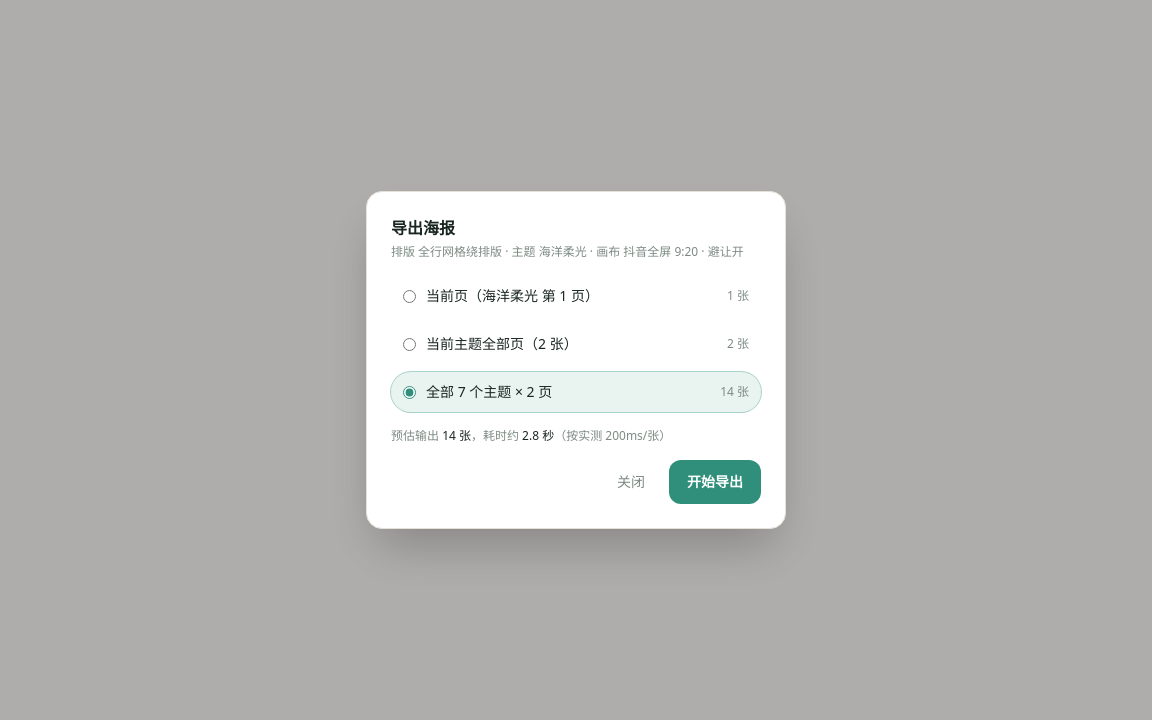
Test: ExportDialog - 三段式引导（M3 P0） › done 阶段显示三段式（✅ 完成 / 最近 3 次 / 6 动作）
The width and height of the screenshot is (1152, 720).
Click the button with test id "export-start".
click(715, 482)  # box [669,460,761,504]
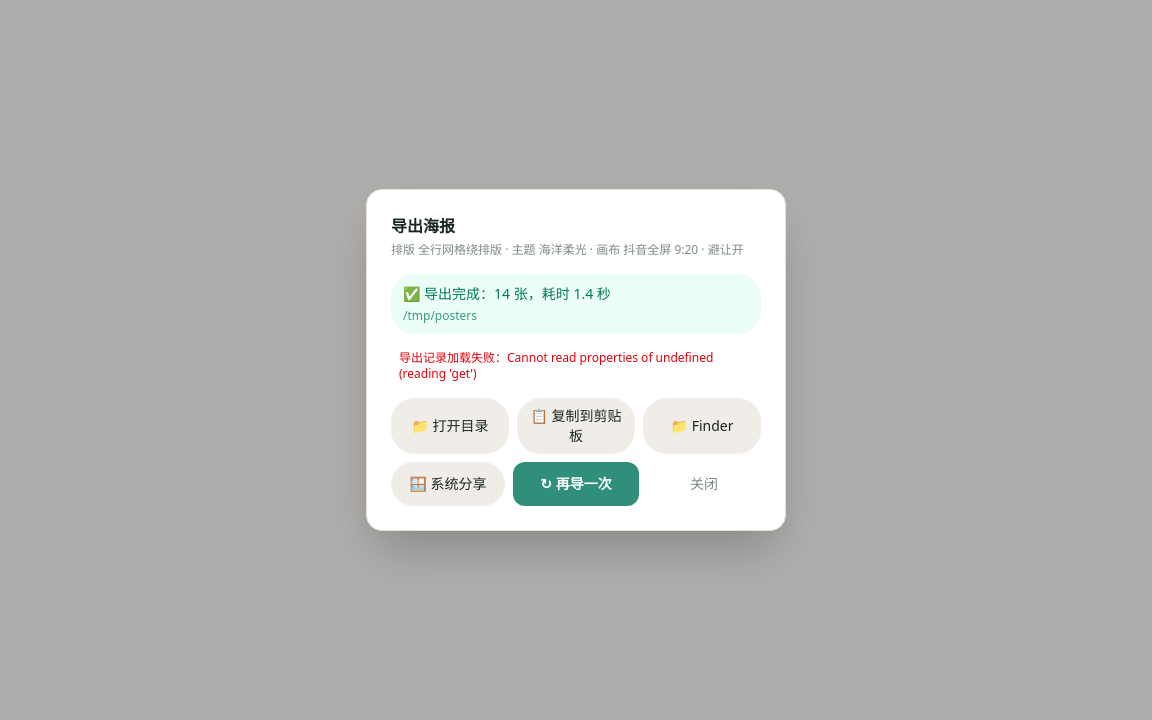
expect the element with test id "export-done-section" is shown: met, box [391,274,761,506]
expect the button with test id "export-open-dir" is shown: met, box [391,398,509,454]
expect the button with test id "export-copy-clipboard" is shown: met, box [517,398,635,454]
